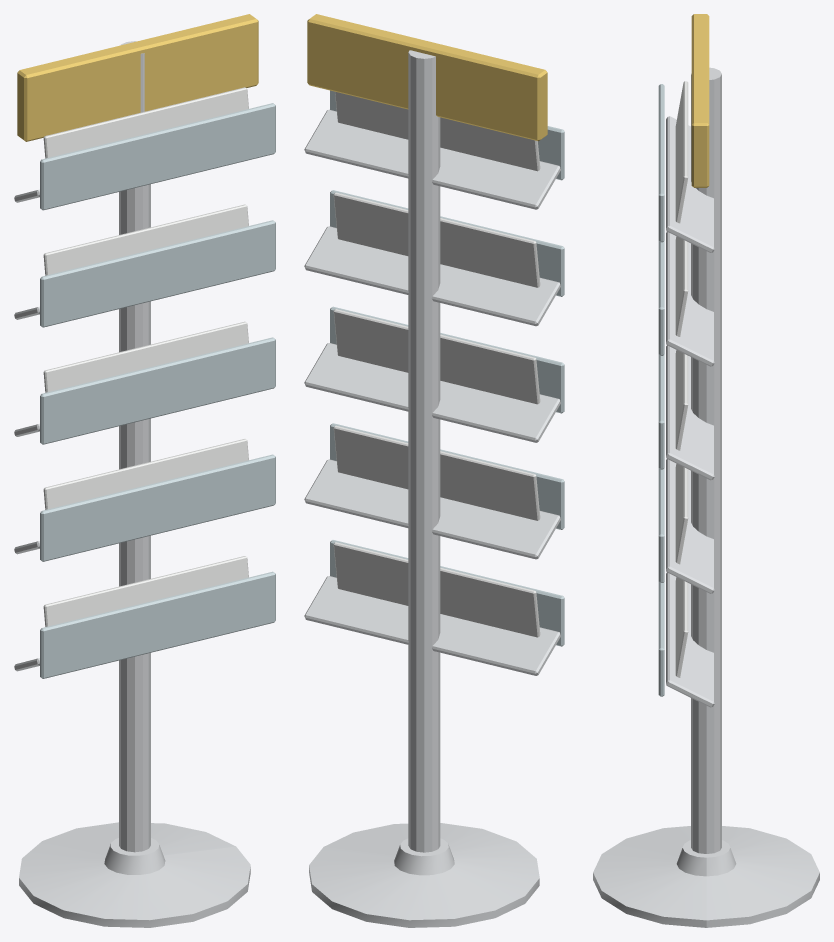
Rendered from clinic-and-veterinary-practice-leaflet-rack-a9dcc12a__16726.glb.
The picture shows the model from 3 angles, left to right: view 1: azimuth 30°, elevation 25°; view 2: azimuth 150°, elevation 25°; view 3: azimuth 270°, elevation 25°; orthographic projection. The views are drawn at different scales.
Parts seen in each view (by area): view 1: leaflet-rack; view 2: leaflet-rack; view 3: leaflet-rack.
Part boxes in pixels (x1,y1,x2,y2): leaflet-rack: (14,14,275,927); leaflet-rack: (304,14,564,927); leaflet-rack: (593,14,819,927).
Bounding box in the file's own units: 0.44 × 1.5 × 0.38.
